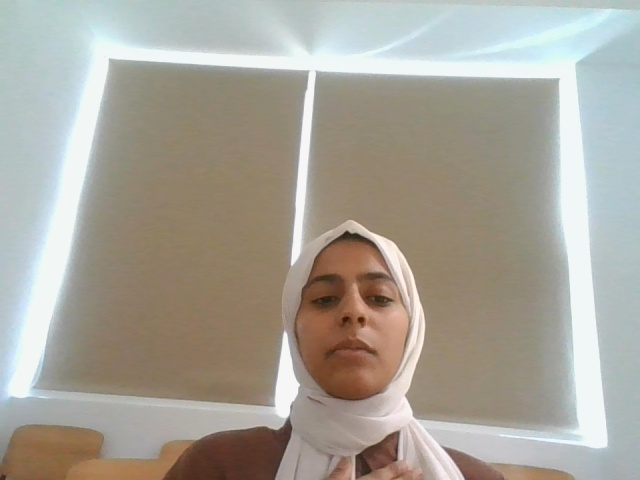please: (313, 449, 447, 480)
